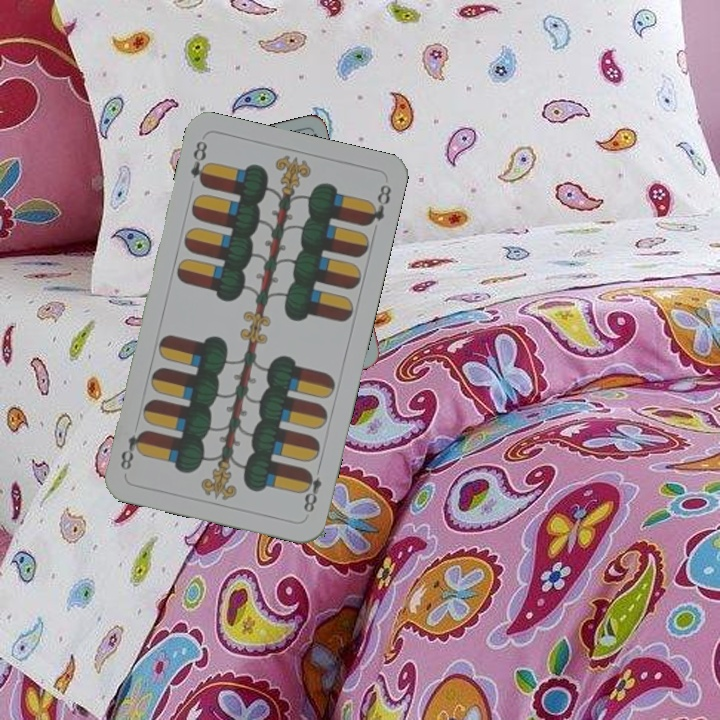E8: (298, 460, 324, 516), (186, 136, 212, 189)
